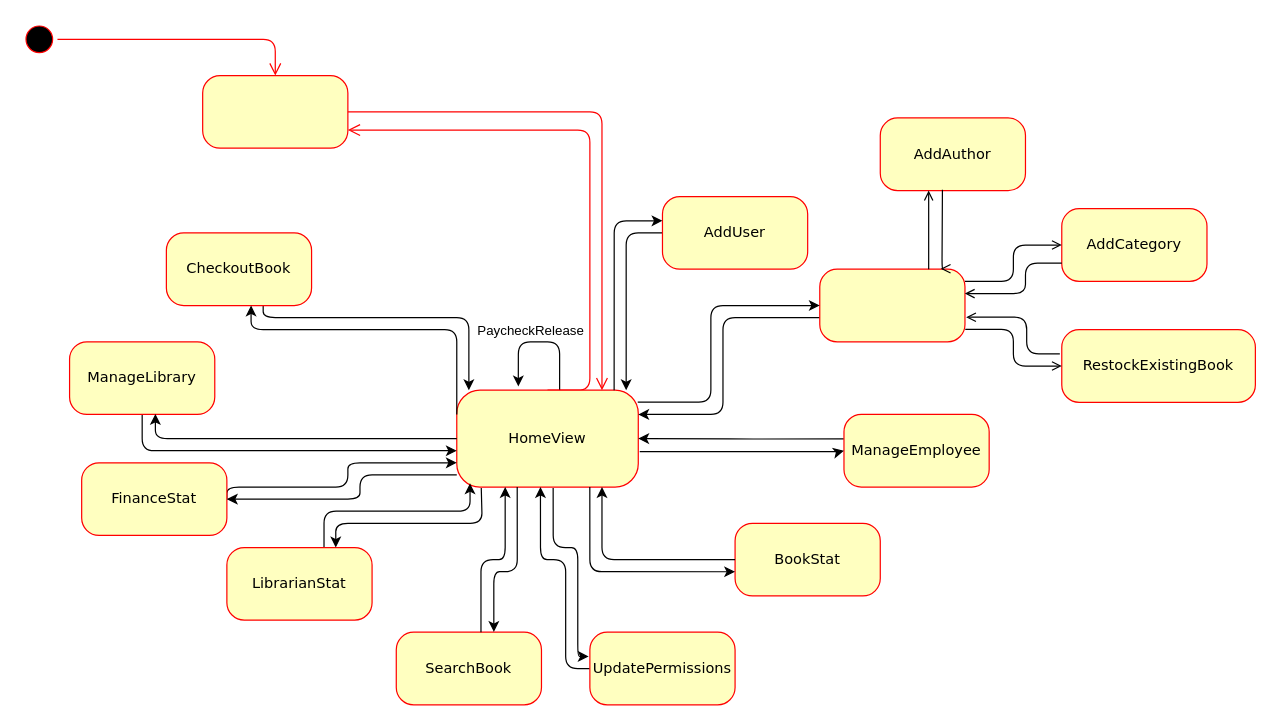
The diagram is 1277 pixels wide and 726 high, and some of its shapes have lost their labels. The centre of each missing label's shape, as x and y in pixels:
"AddBook" goes at point (892, 305).
"Login" goes at point (274, 111).
